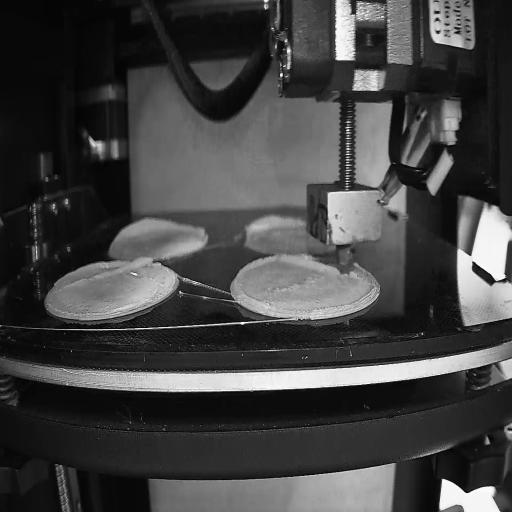over_extrusion: (63, 254, 151, 291), (110, 214, 208, 246), (232, 254, 338, 282), (243, 214, 301, 241), (240, 290, 267, 308)
